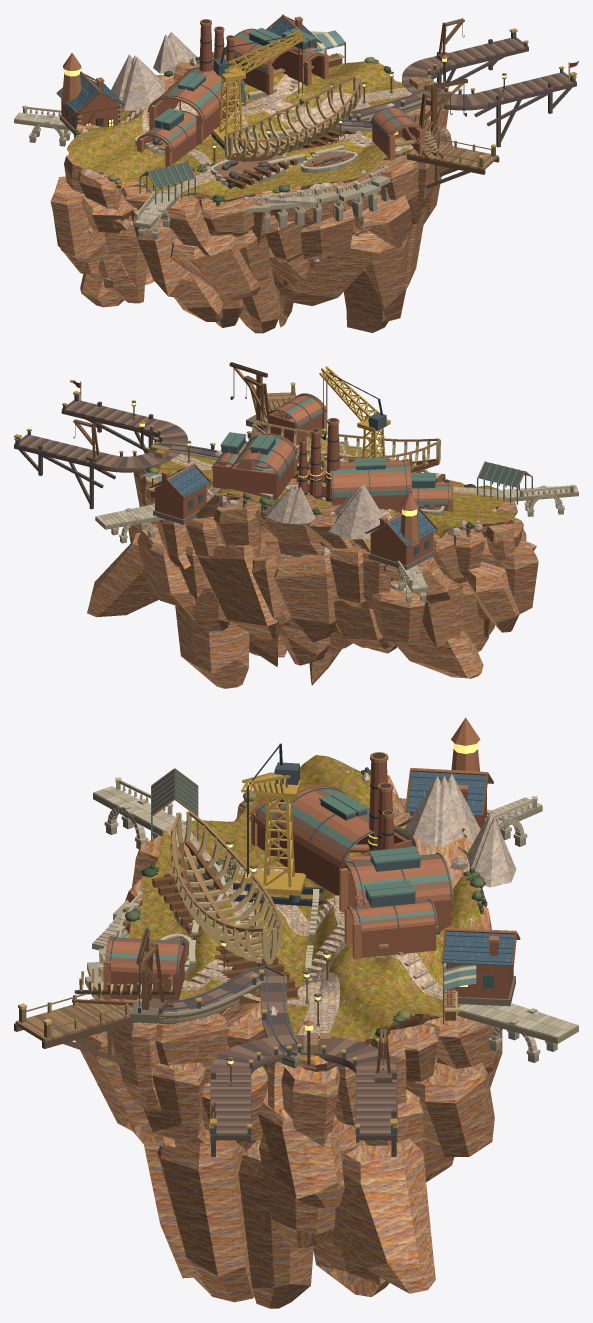
The model's file is flight-town-copperfall.glb.
The picture shows the model from 3 angles, top to bottom: view 1: azimuth 30°, elevation 25°; view 2: azimuth 150°, elevation 25°; view 3: azimuth 270°, elevation 25°; orthographic projection. The views are drawn at different scales.
Parts seen in each view (by area): view 1: Fractured bedrock and hanging outcrops, Quays and working piers, Continuous hillside terraces, Copperfall | Sovereign hull growing on the ways, Stepped lanes and inlaid courts, Stonework, arcade and retaining walls, Outcrop spurs and stratified talus, Copperfall | riveters’ travelling lattice crane, Copperfall • ship hall, Riveting hall, Plate bending hall, Yardmaster’s office (+11 smaller); view 2: Fractured bedrock and hanging outcrops, Quays and working piers, Outcrop spurs and stratified talus, Continuous hillside terraces, Riveting hall, Plate bending hall, Copperfall • ship hall, Yardmaster’s office, Exchange and stores, Copperfall | Sovereign hull growing on the ways, Copperfall | furnace court and blast mains, Copperfall | riveters’ travelling lattice crane (+9 smaller); view 3: Fractured bedrock and hanging outcrops, Quays and working piers, Continuous hillside terraces, Copperfall | Sovereign hull growing on the ways, Riveting hall, Stepped lanes and inlaid courts, Outcrop spurs and stratified talus, Copperfall • ship hall, Casting shop, Copperfall | riveters’ travelling lattice crane, Plate bending hall, Exchange and stores (+10 smaller).
Boxes of the visible parts, box(x1,y1,x2,y2) form: Fractured bedrock and hanging outcrops: box(50, 62, 452, 333); Quays and working piers: box(14, 18, 576, 239); Continuous hillside terraces: box(67, 55, 411, 199); Copperfall | Sovereign hull growing on the ways: box(216, 76, 361, 189); Stepped lanes and inlaid courts: box(121, 74, 413, 195); Stonework, arcade and retaining walls: box(135, 87, 444, 205); Outcrop spurs and stratified talus: box(80, 32, 429, 262); Copperfall | riveters’ travelling lattice crane: box(211, 30, 305, 152); Copperfall • ship hall: box(370, 78, 467, 160); Riveting hall: box(147, 67, 233, 143); Plate bending hall: box(224, 28, 306, 95); Yardmaster’s office: box(56, 71, 124, 132); Fractured bedrock and hanging outcrops: box(87, 437, 538, 688); Quays and working piers: box(14, 375, 578, 602); Outcrop spurs and stratified talus: box(214, 447, 485, 590); Continuous hillside terraces: box(157, 435, 514, 547); Riveting hall: box(330, 457, 412, 512); Plate bending hall: box(228, 433, 297, 500); Copperfall • ship hall: box(229, 362, 326, 445); Yardmaster’s office: box(365, 507, 437, 570); Exchange and stores: box(149, 463, 211, 524); Copperfall | Sovereign hull growing on the ways: box(252, 421, 449, 482); Copperfall | furnace court and blast mains: box(298, 418, 339, 502); Copperfall | riveters’ travelling lattice crane: box(319, 366, 390, 458); Fractured bedrock and hanging outcrops: box(75, 764, 502, 1308); Quays and working piers: box(14, 777, 578, 1156); Continuous hillside terraces: box(128, 755, 480, 1057); Copperfall | Sovereign hull growing on the ways: box(152, 811, 299, 1004); Riveting hall: box(271, 784, 416, 895); Stepped lanes and inlaid courts: box(136, 824, 462, 1035); Outcrop spurs and stratified talus: box(151, 770, 516, 1068); Copperfall • ship hall: box(72, 928, 185, 1023); Casting shop: box(344, 880, 437, 959); Copperfall | riveters’ travelling lattice crane: box(229, 743, 324, 906); Plate bending hall: box(339, 846, 453, 930); Exchange and stores: box(441, 928, 520, 1006).
Size of the model in its own units: 53.51 by 31.44 by 34.5.
Materials: 33 (4 with a texture image).
